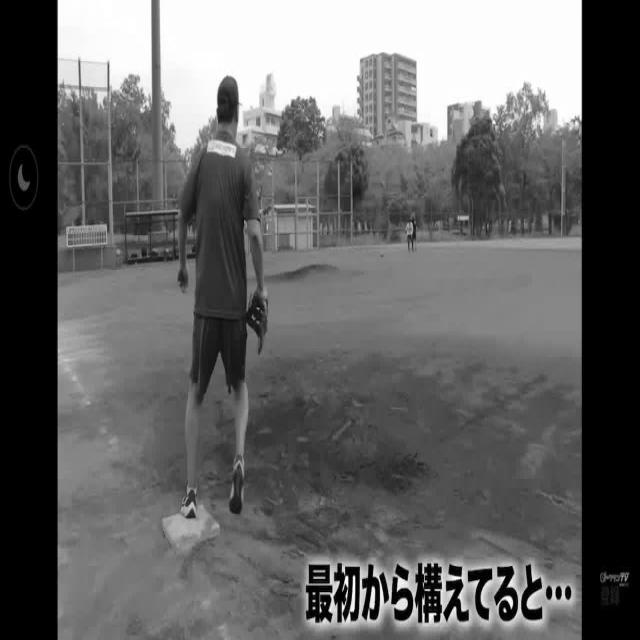base: (159, 512, 221, 557)
baseball_glove: (246, 285, 272, 346)
shoe: (230, 455, 245, 521), (177, 495, 198, 521)
